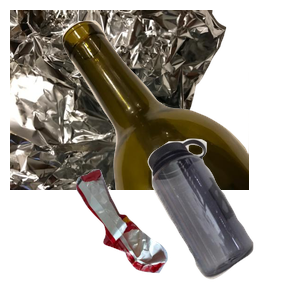glass: (60, 18, 300, 198)
metal: (10, 10, 229, 190)
plastic: (145, 136, 300, 300)
trash: (74, 167, 235, 300)
